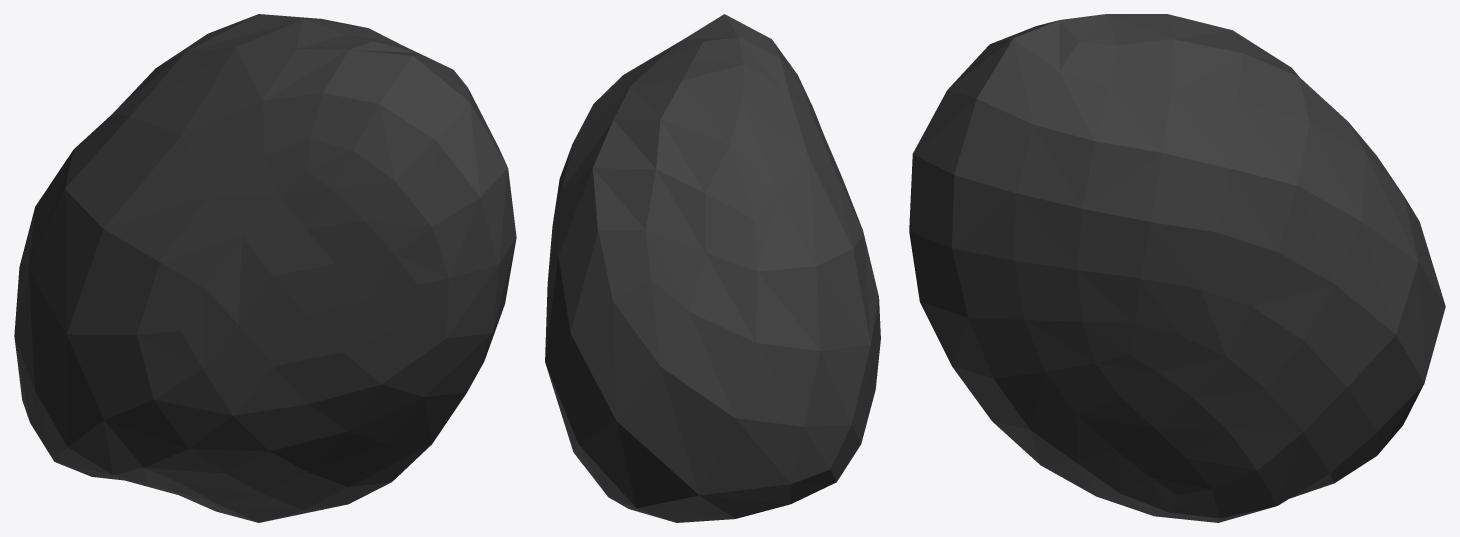
The model's file is LFL_carpal4.glb.
The picture shows the model from 3 angles, left to right: view 1: azimuth 30°, elevation 25°; view 2: azimuth 150°, elevation 25°; view 3: azimuth 270°, elevation 25°; orthographic projection. The views are drawn at different scales.
Visible parts, largest first — view 1: LFL_carpal4; view 2: LFL_carpal4; view 3: LFL_carpal4.
Part boxes in pixels (<box>): LFL_carpal4: <box>14,14,516,522</box>; LFL_carpal4: <box>545,14,880,522</box>; LFL_carpal4: <box>909,14,1445,522</box>.
Bounding box in the file's own units: 3.78 × 4.92 × 4.74.
1 material, 1 textured.
